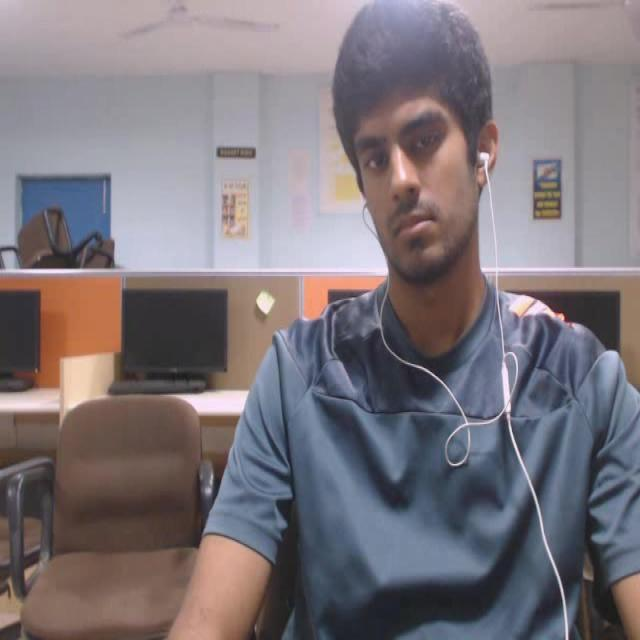Engaged: (296, 0, 518, 287)
